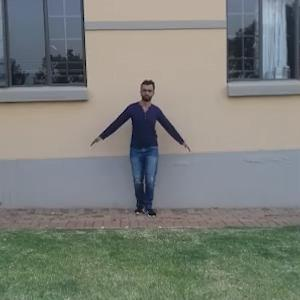land: (93, 82, 188, 227)
